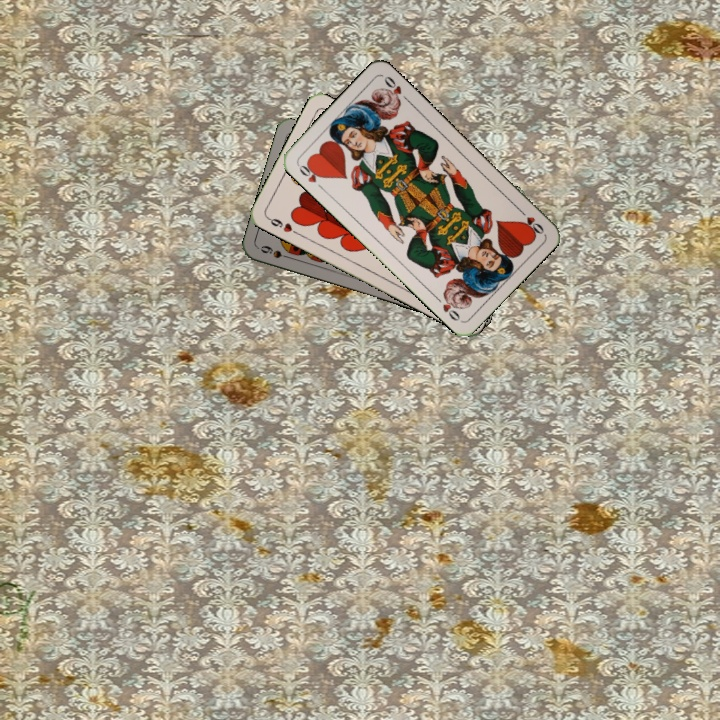H9: (263, 213, 301, 237)
HO: (294, 158, 326, 193), (514, 204, 547, 237)
S9: (256, 241, 295, 262)
